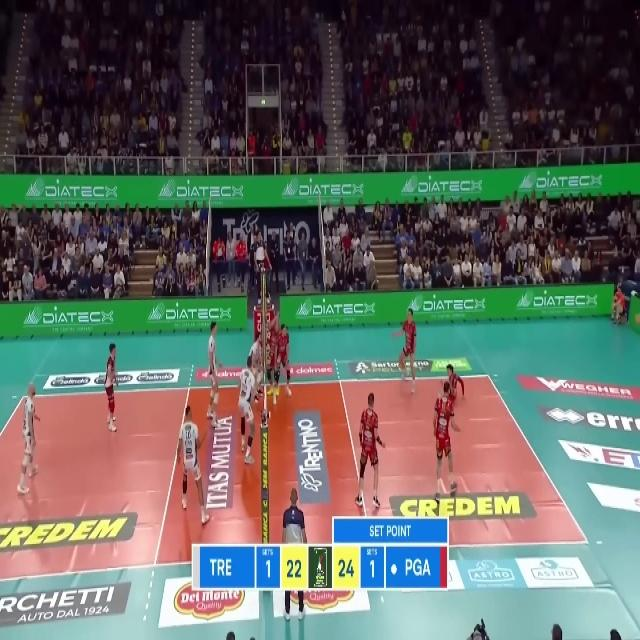volleyball court: (0, 371, 591, 578)
